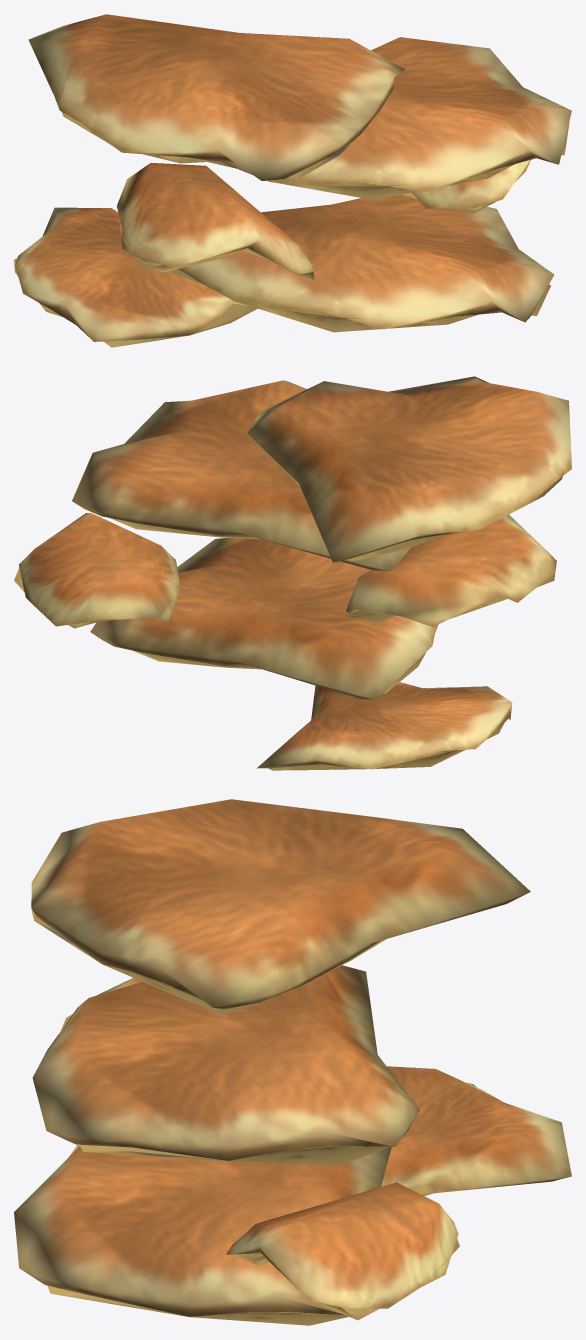
File: laetiporus-quaternius.glb
3 views of the same model, one above another, from view 1: azimuth 30°, elevation 25°; view 2: azimuth 150°, elevation 25°; view 3: azimuth 270°, elevation 25° (orthographic). The views are drawn at different scales.
Parts seen in each view (by area): view 1: Mushroom_Laetiporus; view 2: Mushroom_Laetiporus; view 3: Mushroom_Laetiporus.
Part boxes in pixels (x1,y1,x2,y2): Mushroom_Laetiporus: [14, 14, 571, 347]; Mushroom_Laetiporus: [14, 376, 571, 770]; Mushroom_Laetiporus: [14, 799, 571, 1325].
Bounding box in the file's own units: 1.36 × 0.7601 × 1.1.
Materials: 1 (1 with a texture image).
